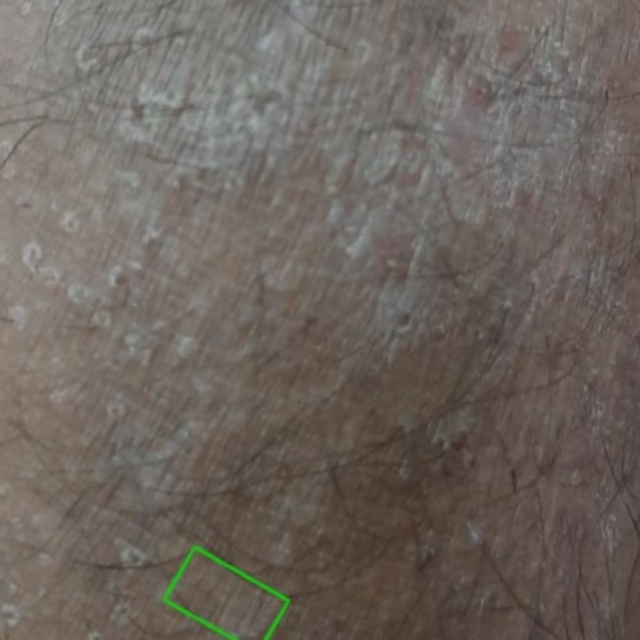Contact Dermatitis: (163, 548, 287, 639)
